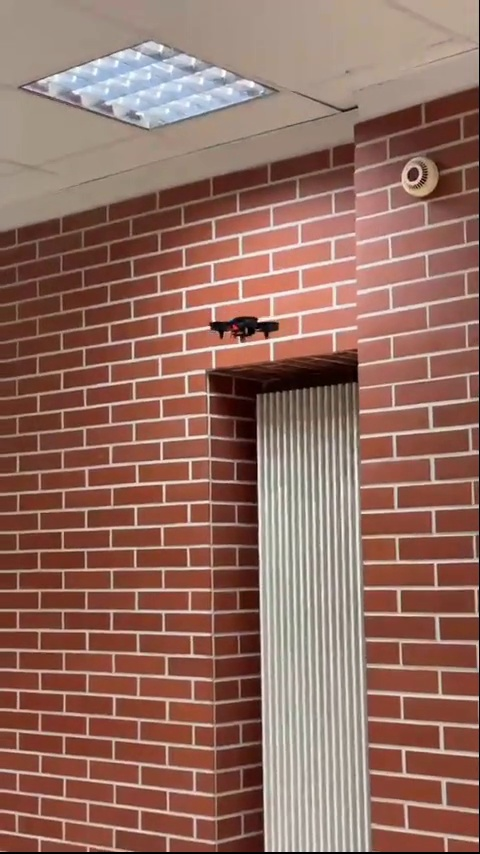drone: (209, 313, 278, 338)
